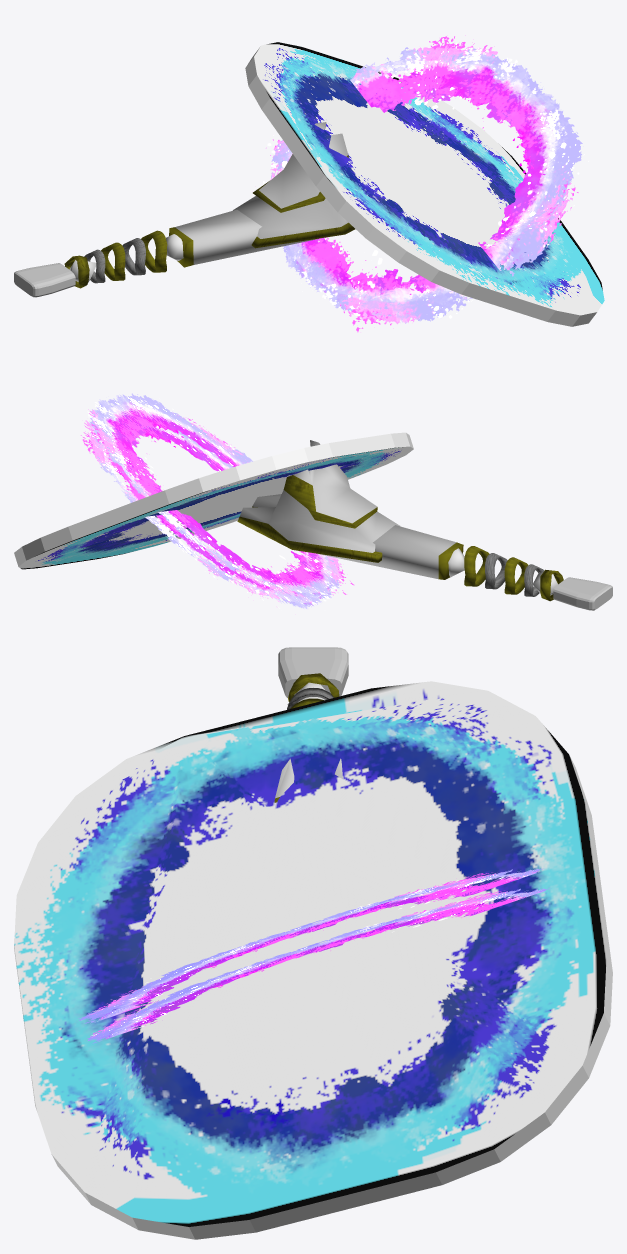
Rendered from Robot 10 R arm.fbx.
3 views of the same model, one above another, from view 1: azimuth 30°, elevation 25°; view 2: azimuth 150°, elevation 25°; view 3: azimuth 270°, elevation 25° (orthographic). The views are drawn at different scales.
Parts seen in each view (by area): view 1: galaxy blue, galaxy purple, L bicep, Cube.030, R forearm 1, R forearm 3, R forearm 2, Icosphere.007; view 2: galaxy blue, galaxy purple, L bicep, Cube.030, R forearm 1, R forearm 3, Icosphere.007, R forearm 2, R forearm 4; view 3: galaxy blue, galaxy purple, Cube.030.
Boxes of the visible parts, left/top/right/bottom form: galaxy blue: left=245, top=42, right=604, bottom=326; galaxy purple: left=263, top=35, right=588, bottom=332; L bicep: left=166, top=122, right=355, bottom=267; Cube.030: left=14, top=263, right=75, bottom=297; R forearm 1: left=141, top=230, right=167, bottom=272; R forearm 3: left=101, top=242, right=125, bottom=280; R forearm 2: left=122, top=238, right=145, bottom=275; Icosphere.007: left=64, top=255, right=96, bottom=288; galaxy blue: left=14, top=432, right=413, bottom=569; galaxy purple: left=80, top=393, right=354, bottom=609; L bicep: left=237, top=440, right=464, bottom=579; Cube.030: left=553, top=577, right=612, bottom=610; R forearm 1: left=464, top=546, right=489, bottom=586; R forearm 3: left=504, top=557, right=528, bottom=594; Icosphere.007: left=533, top=569, right=563, bottom=601; R forearm 2: left=485, top=553, right=507, bottom=589; R forearm 4: left=524, top=564, right=544, bottom=596; galaxy blue: left=14, top=681, right=612, bottom=1239; galaxy purple: left=78, top=868, right=549, bottom=1043; Cube.030: left=278, top=647, right=348, bottom=697.
Bounding box in the file's own units: 1330 × 533 × 799.
